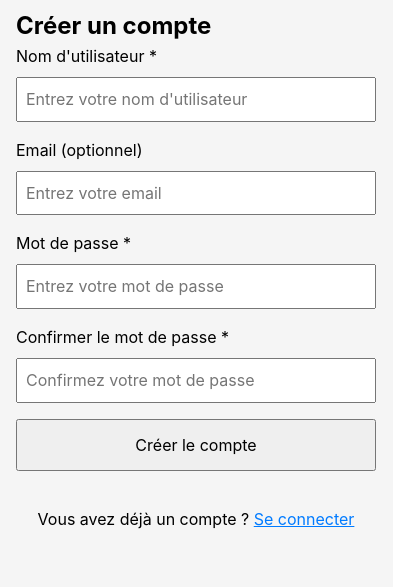
Test: Signup Component › should show password mismatch error
The image size is (393, 587).
In the password field labelled "Mot de passe *": (196, 287) left=16, top=264, right=376, bottom=309, type "password123"
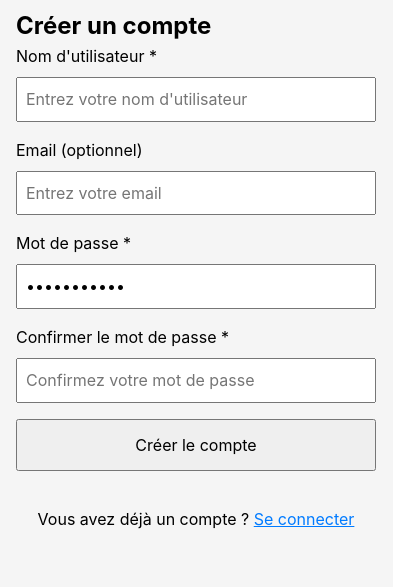
In the password field labelled "Confirmer le mot de passe *": (196, 380) left=16, top=358, right=376, bottom=403, type "different123"
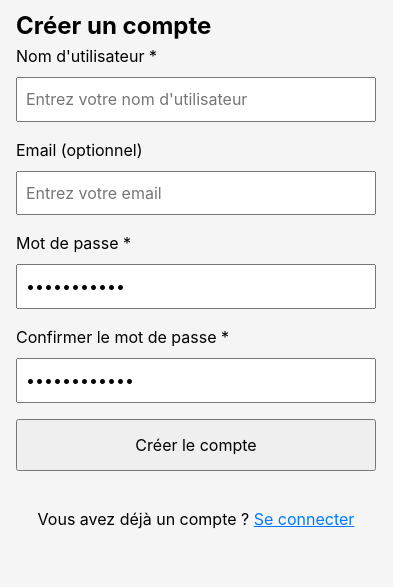
Leave the password field labelled "Confirmer le mot de passe *", box left=16, top=358, right=376, bottom=403
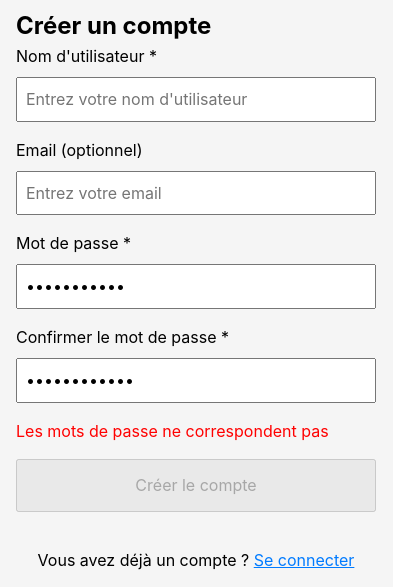
Result: the text "Les mots de passe ne correspondent pas" is shown at left=16, top=419, right=376, bottom=443
